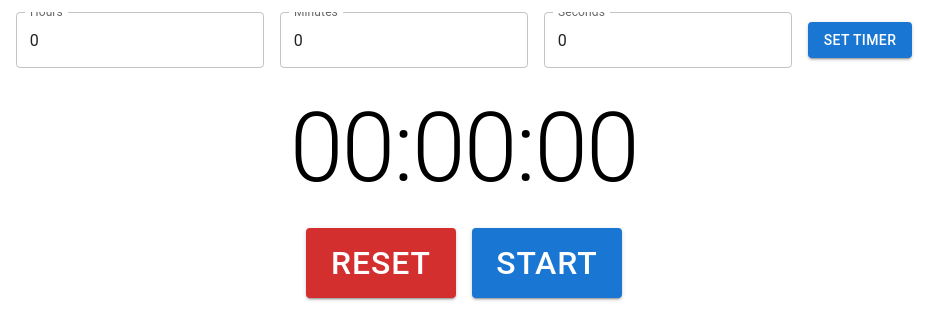
TimerDisplay component - extended tests › displays remaining time in HH:MM:SS format with leading zeros
Replace the text in the number field labelled "Seconds" with "1" at x=668, y=40, box [544,12,792,68]
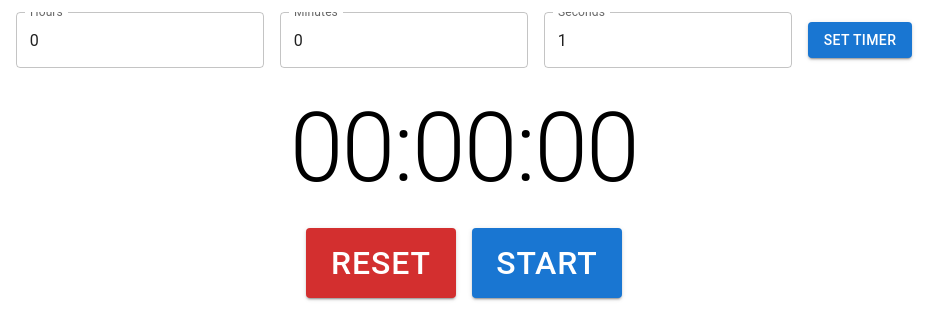
Click the button "Set Timer" at x=860, y=40, box [808,22,912,58]
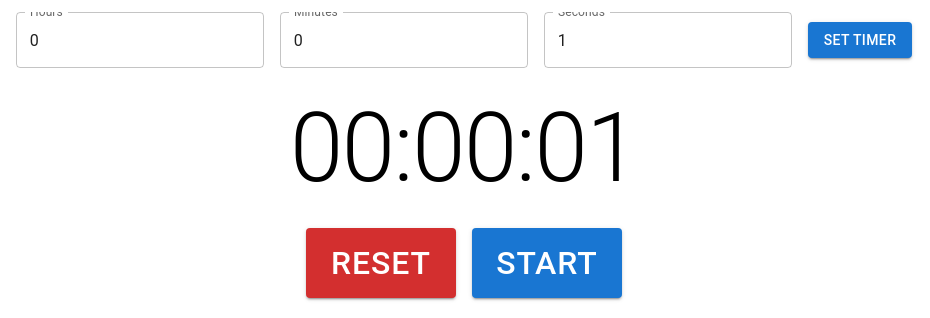
Expected: the heading "00:00:01" is shown, [290,92,638,204]
